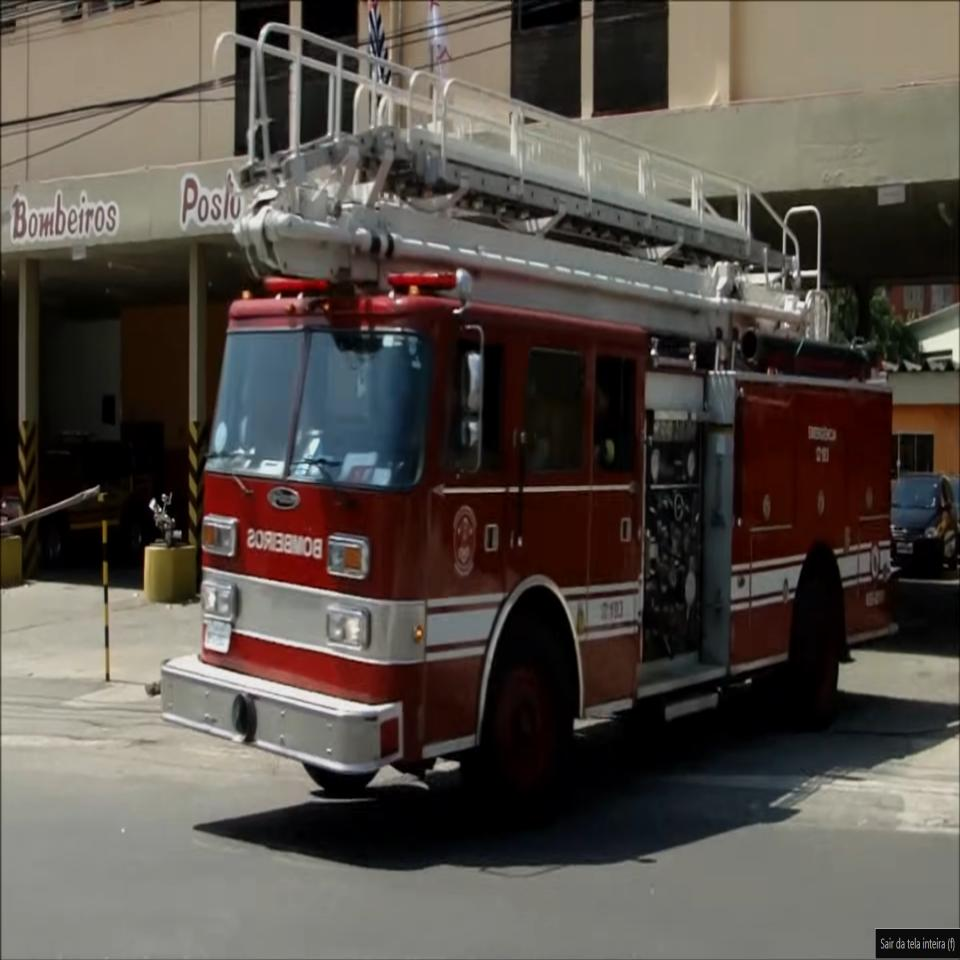bombeiro: (159, 17, 898, 824)
